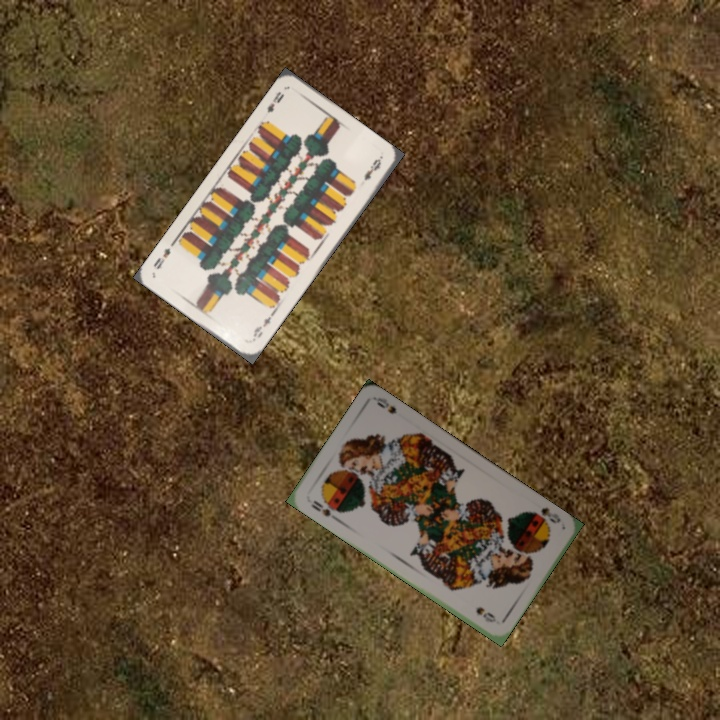E9: (248, 309, 276, 344), (263, 87, 287, 116)
SO: (306, 496, 343, 523), (525, 503, 563, 526)
